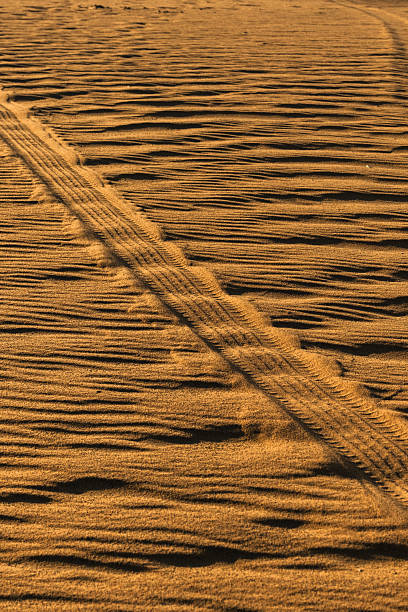vehicle_track: (0, 97, 407, 504)
